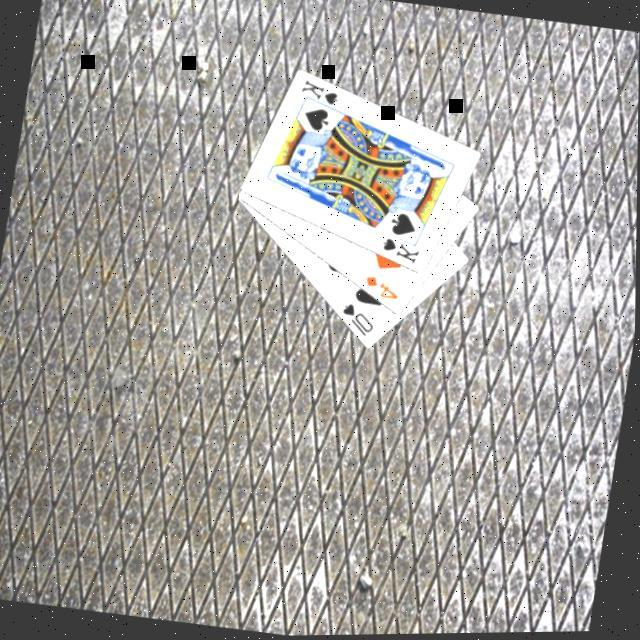10S: (338, 299, 383, 342)
4D: (363, 272, 406, 304)
KS: (298, 76, 346, 117), (380, 234, 427, 269)
